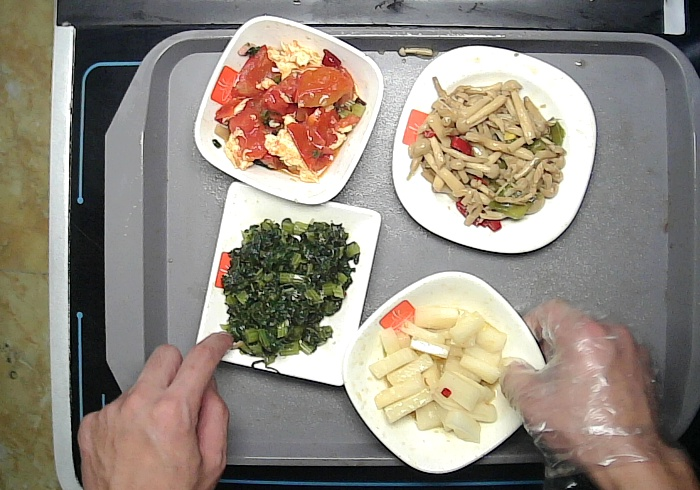SHKJ-Bai_Se_Cai_Die: (342, 269, 553, 473)
SHKJ-Bai_Se_Si_Fang_Cai_Die: (391, 40, 600, 256)
SHKJ-Bai_Se_Xiao_Fang_Die: (193, 14, 386, 207)
SHKJ-Si_Fang_Min: (197, 178, 383, 393)
